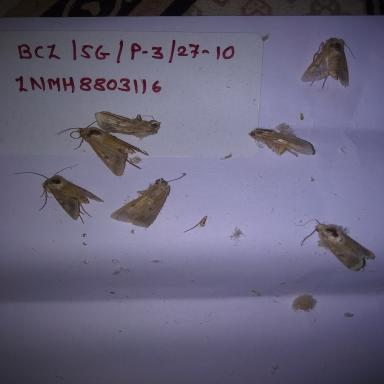abw: (12, 164, 105, 224), (55, 118, 148, 177), (110, 172, 187, 228), (295, 219, 375, 272), (300, 37, 356, 89), (248, 128, 316, 157), (95, 111, 161, 140)
